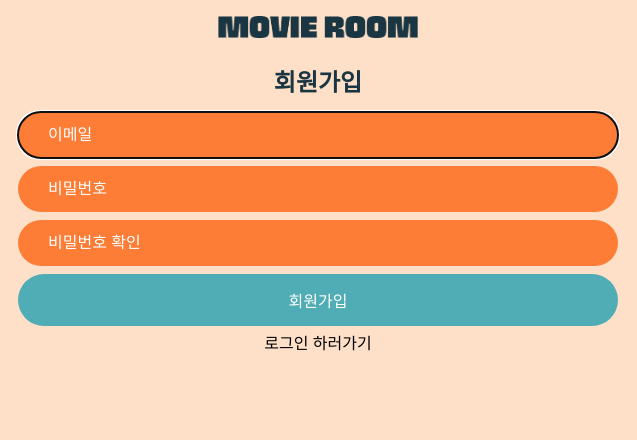
Test case: signup page › should render 'required' error message
Click the button titled "회원가입" at (318, 300), box [18,274,618,326]
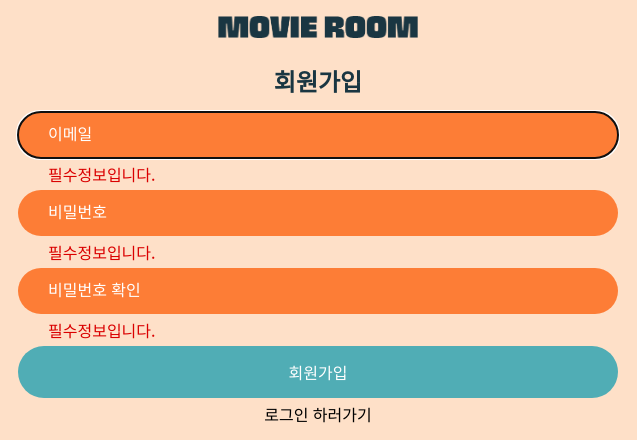
Now the text "필수정보입니다." is shown 3 times, box [48,162,156,186]; [48,240,156,264]; [48,318,156,342]
